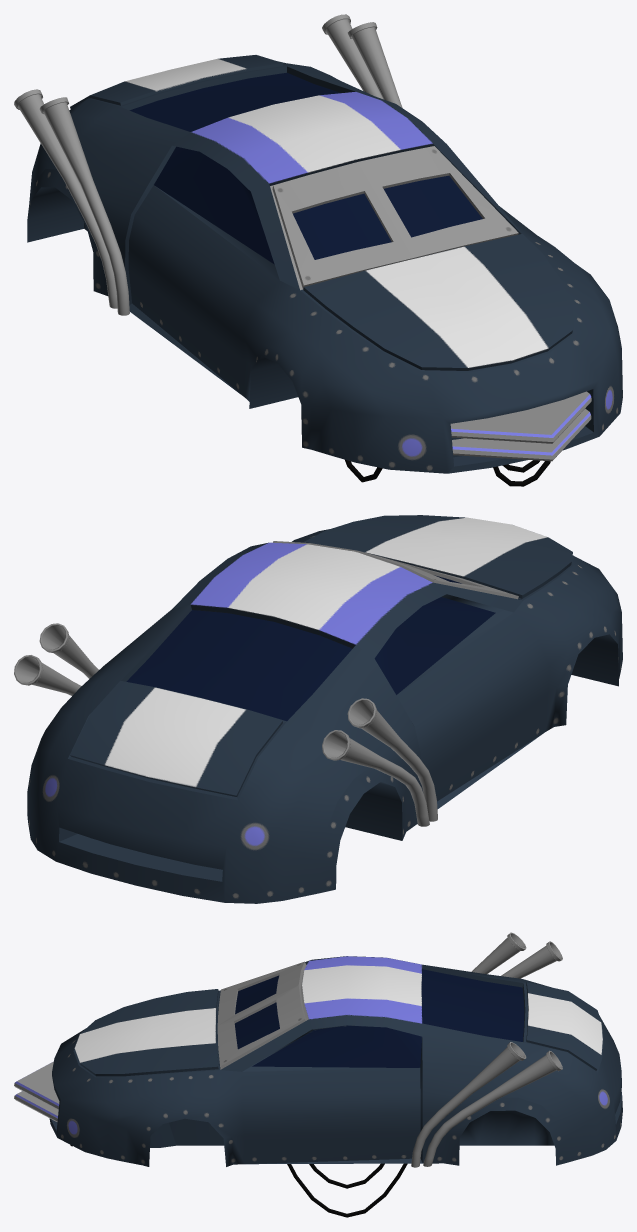
Rendered from SM_Car_04_Base.fbx.
The picture shows the model from 3 angles, top to bottom: view 1: azimuth 30°, elevation 25°; view 2: azimuth 150°, elevation 25°; view 3: azimuth 270°, elevation 25°; orthographic projection. The views are drawn at different scales.
Parts seen in each view (by area): view 1: SM_Car_04_Base; view 2: SM_Car_04_Base; view 3: SM_Car_04_Base.
Part boxes in pixels (<box>): SM_Car_04_Base: <box>14,14,622,486</box>; SM_Car_04_Base: <box>14,515,622,903</box>; SM_Car_04_Base: <box>14,932,622,1217</box>.
Bounding box in the file's own units: 196 × 423 × 144.
